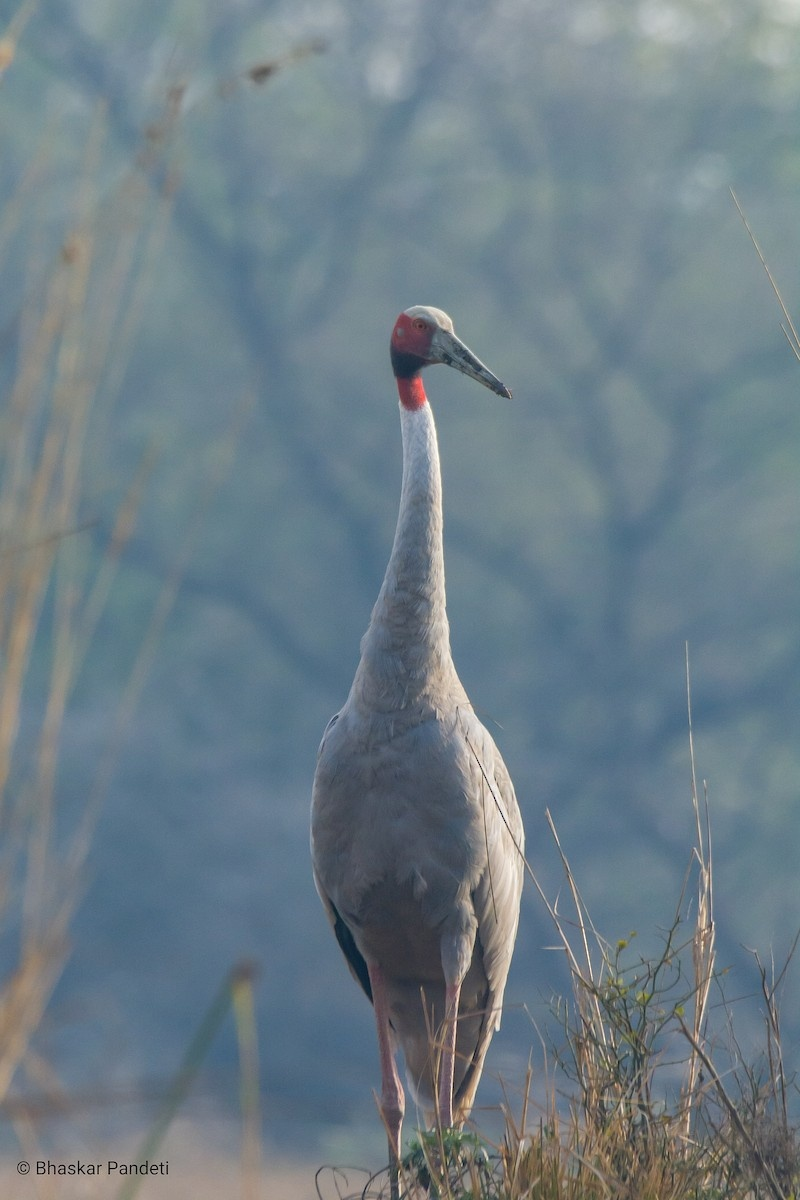crane: (294, 287, 527, 1197)
